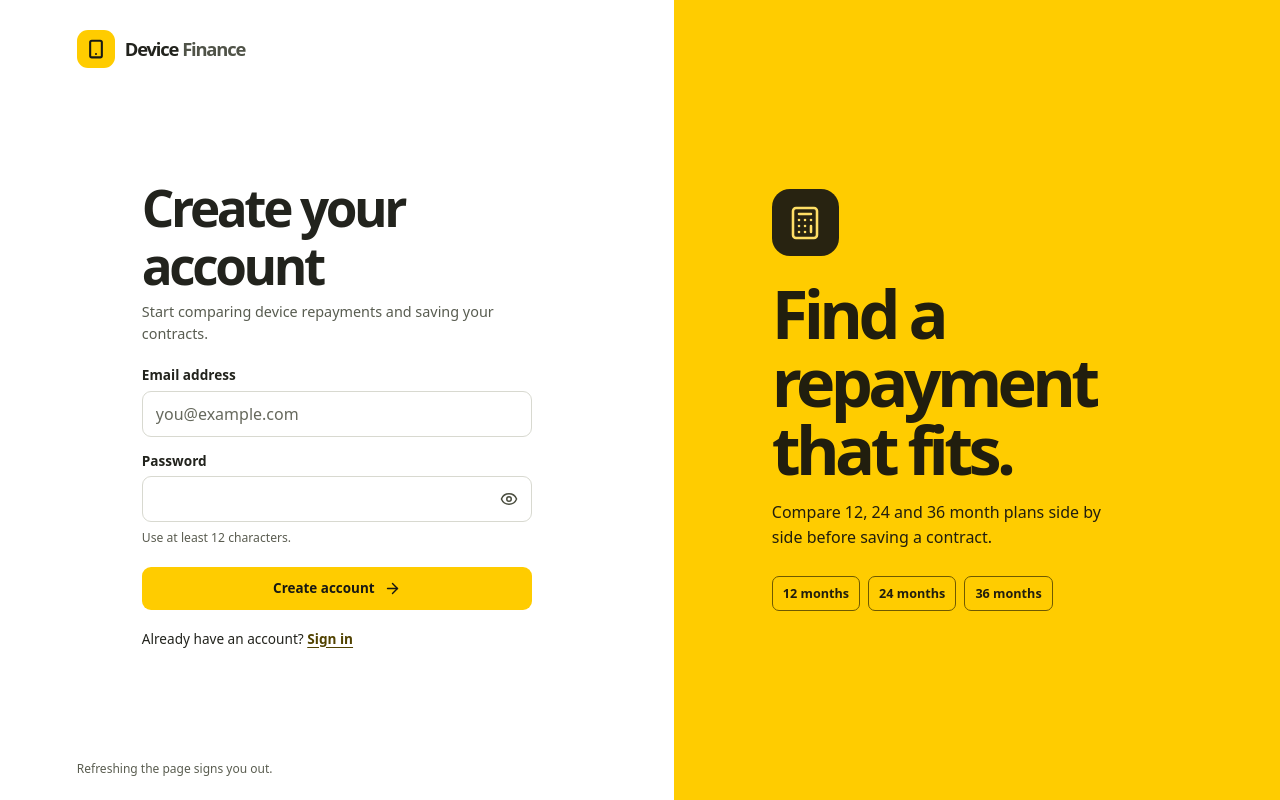
Test: account access › validates registration and submits the normalised credentials
Type "Fixture@EXAMPLE.test" into the field labelled "Email address" at (337, 414), box [142,391,532,437]
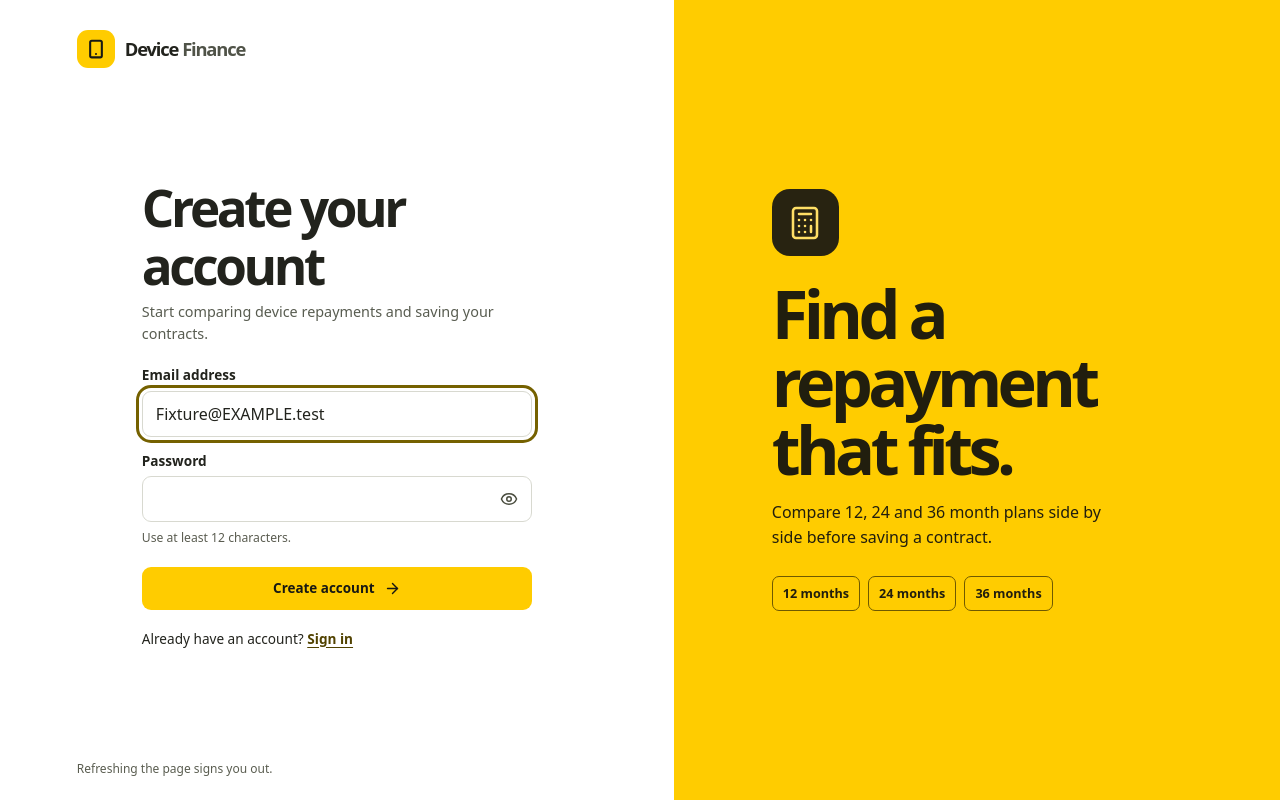
Type "short" into the password field labelled "Password" at (337, 499), box [142,476,532,522]
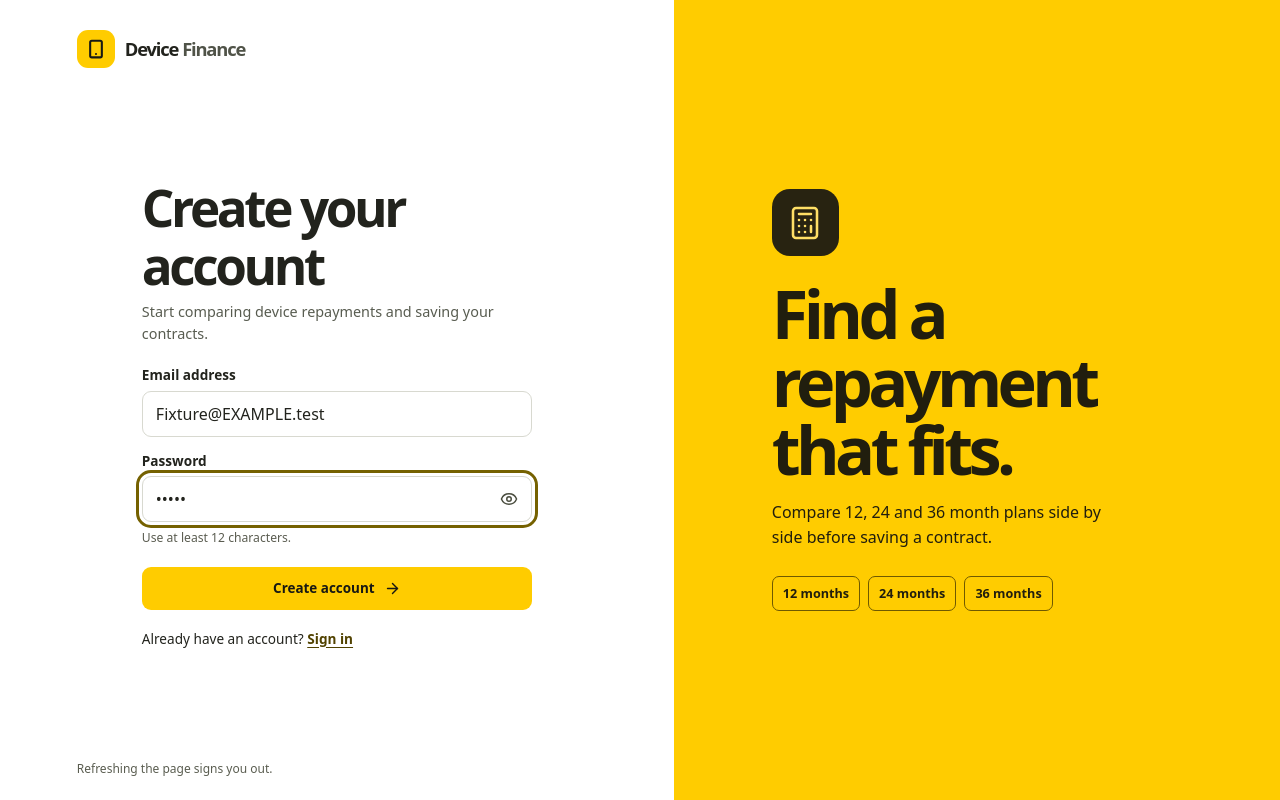
Click the button "Create account" at (337, 588), box [142,566,532,610]
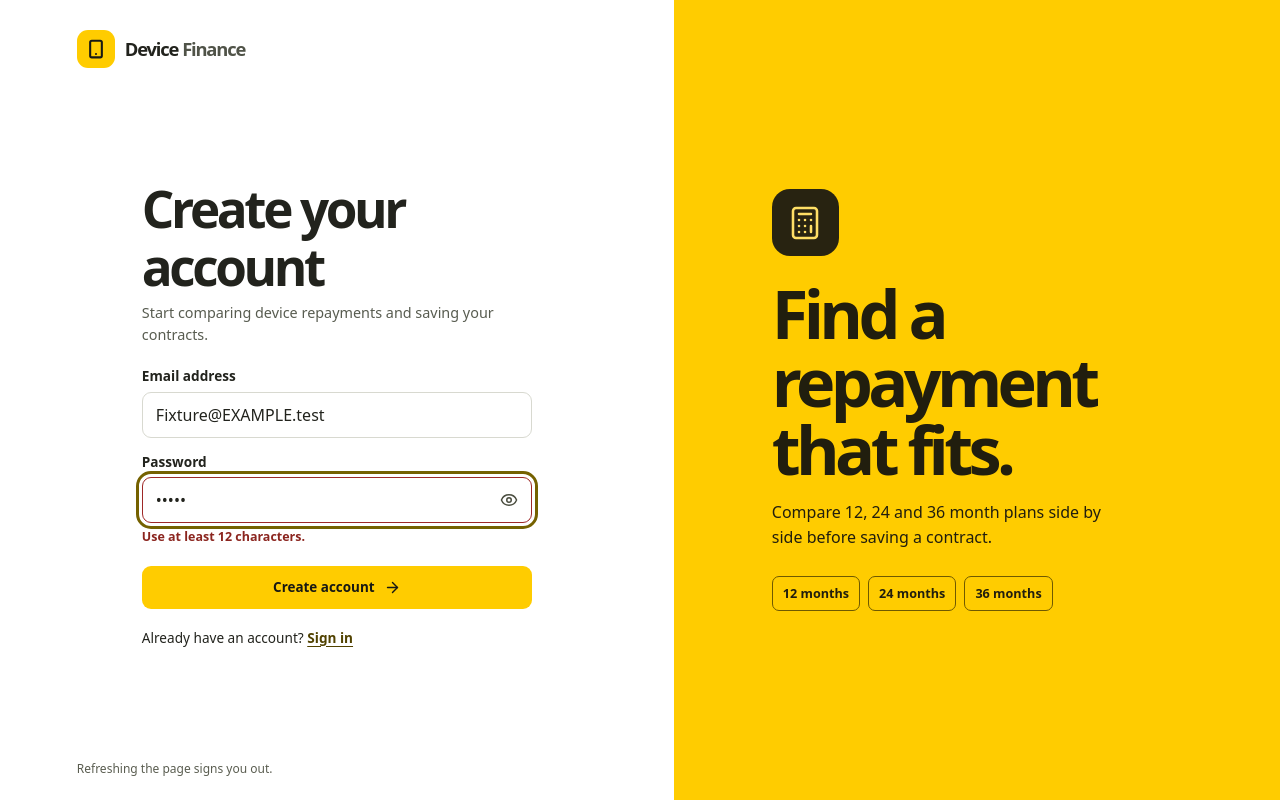
Expected: the text "Use at least 12 characters." is shown, [142,528,305,545]
Type "Sufficient fixture password" into the password field labelled "Password" at (337, 500), box [142,477,532,523]
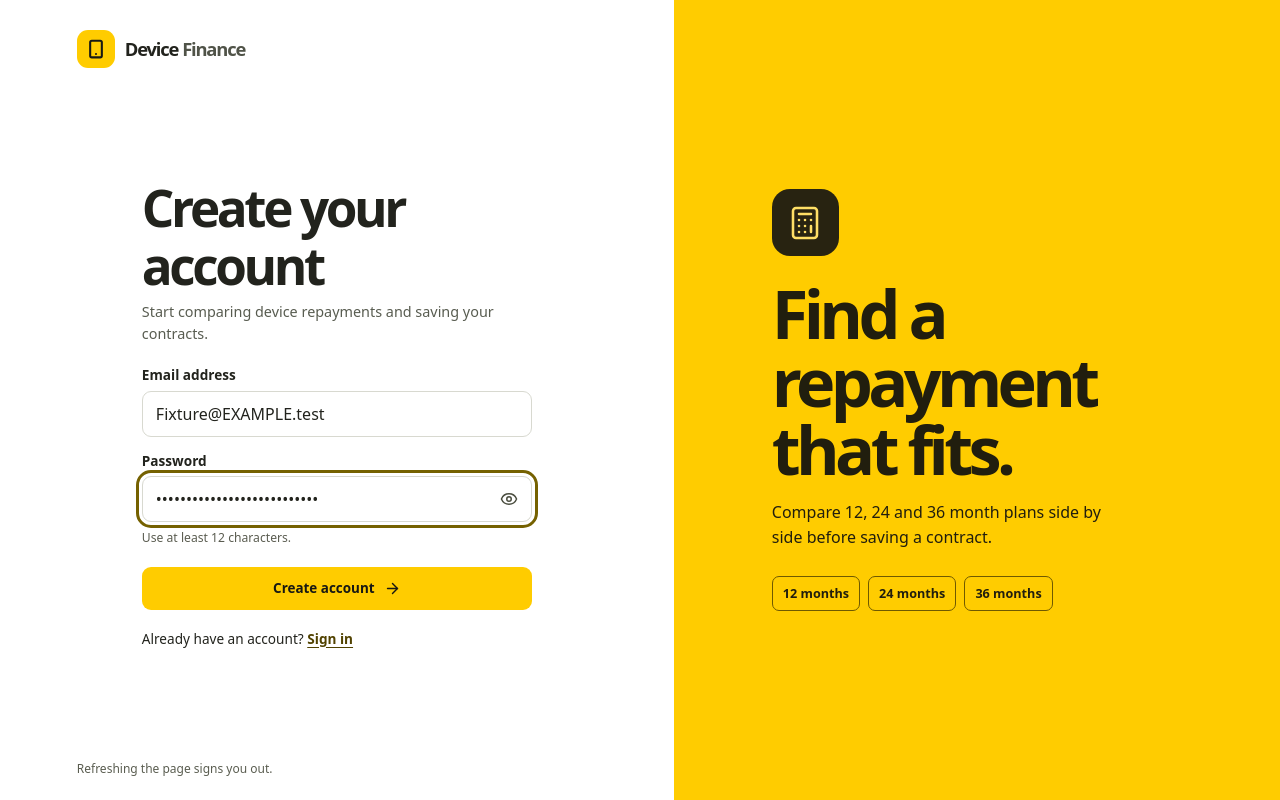
Click the button "Create account" at (337, 588), box [142,566,532,610]
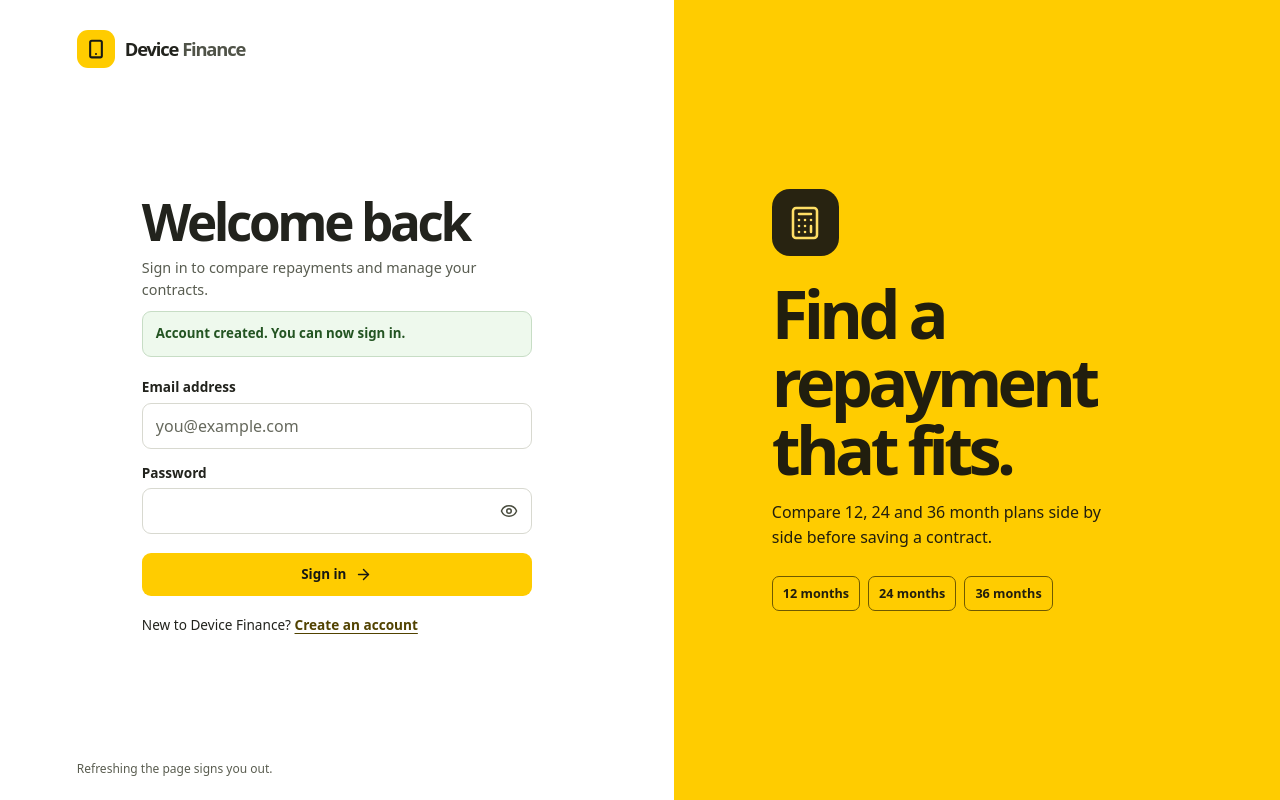
Now the text "Account created. You can now sign in." is shown, box [142,311,532,357]
